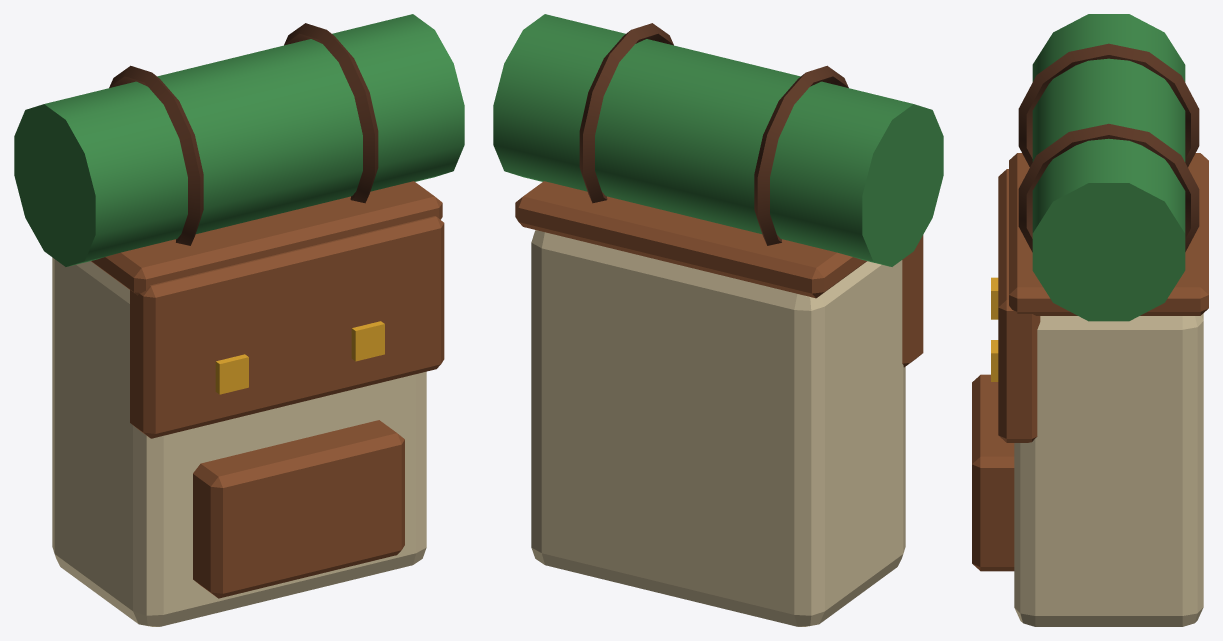
The model's file is backpack-pixor.glb.
The picture shows the model from 3 angles, left to right: view 1: azimuth 30°, elevation 25°; view 2: azimuth 150°, elevation 25°; view 3: azimuth 270°, elevation 25°; orthographic projection. The views are drawn at different scales.
Parts seen in each view (by area): view 1: Backpack flap, Backpack bedroll, Backpack body, Backpack straps, Backpack buckles; view 2: Backpack body, Backpack bedroll, Backpack flap, Backpack straps; view 3: Backpack body, Backpack bedroll, Backpack flap, Backpack straps, Backpack buckles.
Boxes of the visible parts, x1,y1,x2,y2 form: Backpack flap: (91, 181, 444, 598); Backpack bedroll: (14, 14, 464, 266); Backpack body: (52, 257, 426, 626); Backpack straps: (109, 23, 378, 245); Backpack buckles: (215, 321, 384, 394); Backpack body: (531, 230, 905, 626); Backpack bedroll: (493, 14, 943, 266); Backpack flap: (515, 181, 923, 367); Backpack straps: (579, 23, 848, 245); Backpack body: (1014, 313, 1203, 626); Backpack bedroll: (1032, 14, 1185, 321); Backpack flap: (972, 153, 1208, 571); Backpack straps: (1018, 43, 1199, 252); Backpack buckles: (991, 277, 998, 381).
Size of the model in its own units: 0.38 by 0.508 by 0.225.
